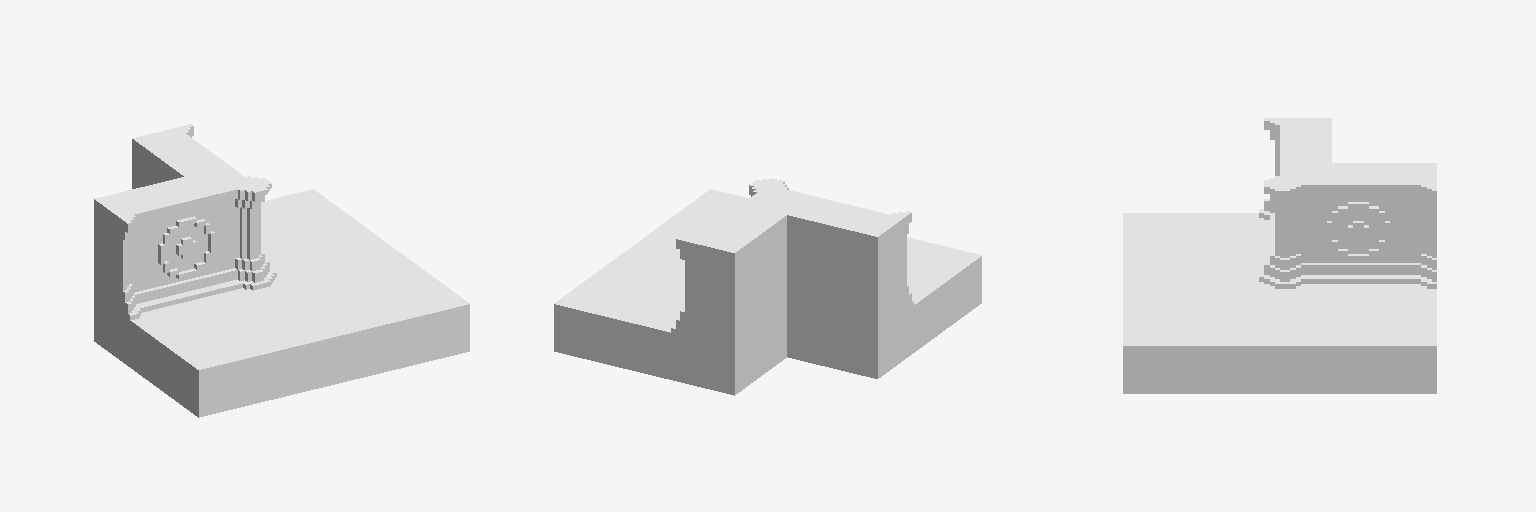
The model's file is convex_corner.obj.
The picture shows the model from 3 angles: view 1: azimuth 30°, elevation 25°; view 2: azimuth 150°, elevation 25°; view 3: azimuth 270°, elevation 25°; orthographic projection.
Size of the model in its own units: 60 by 30 by 60.